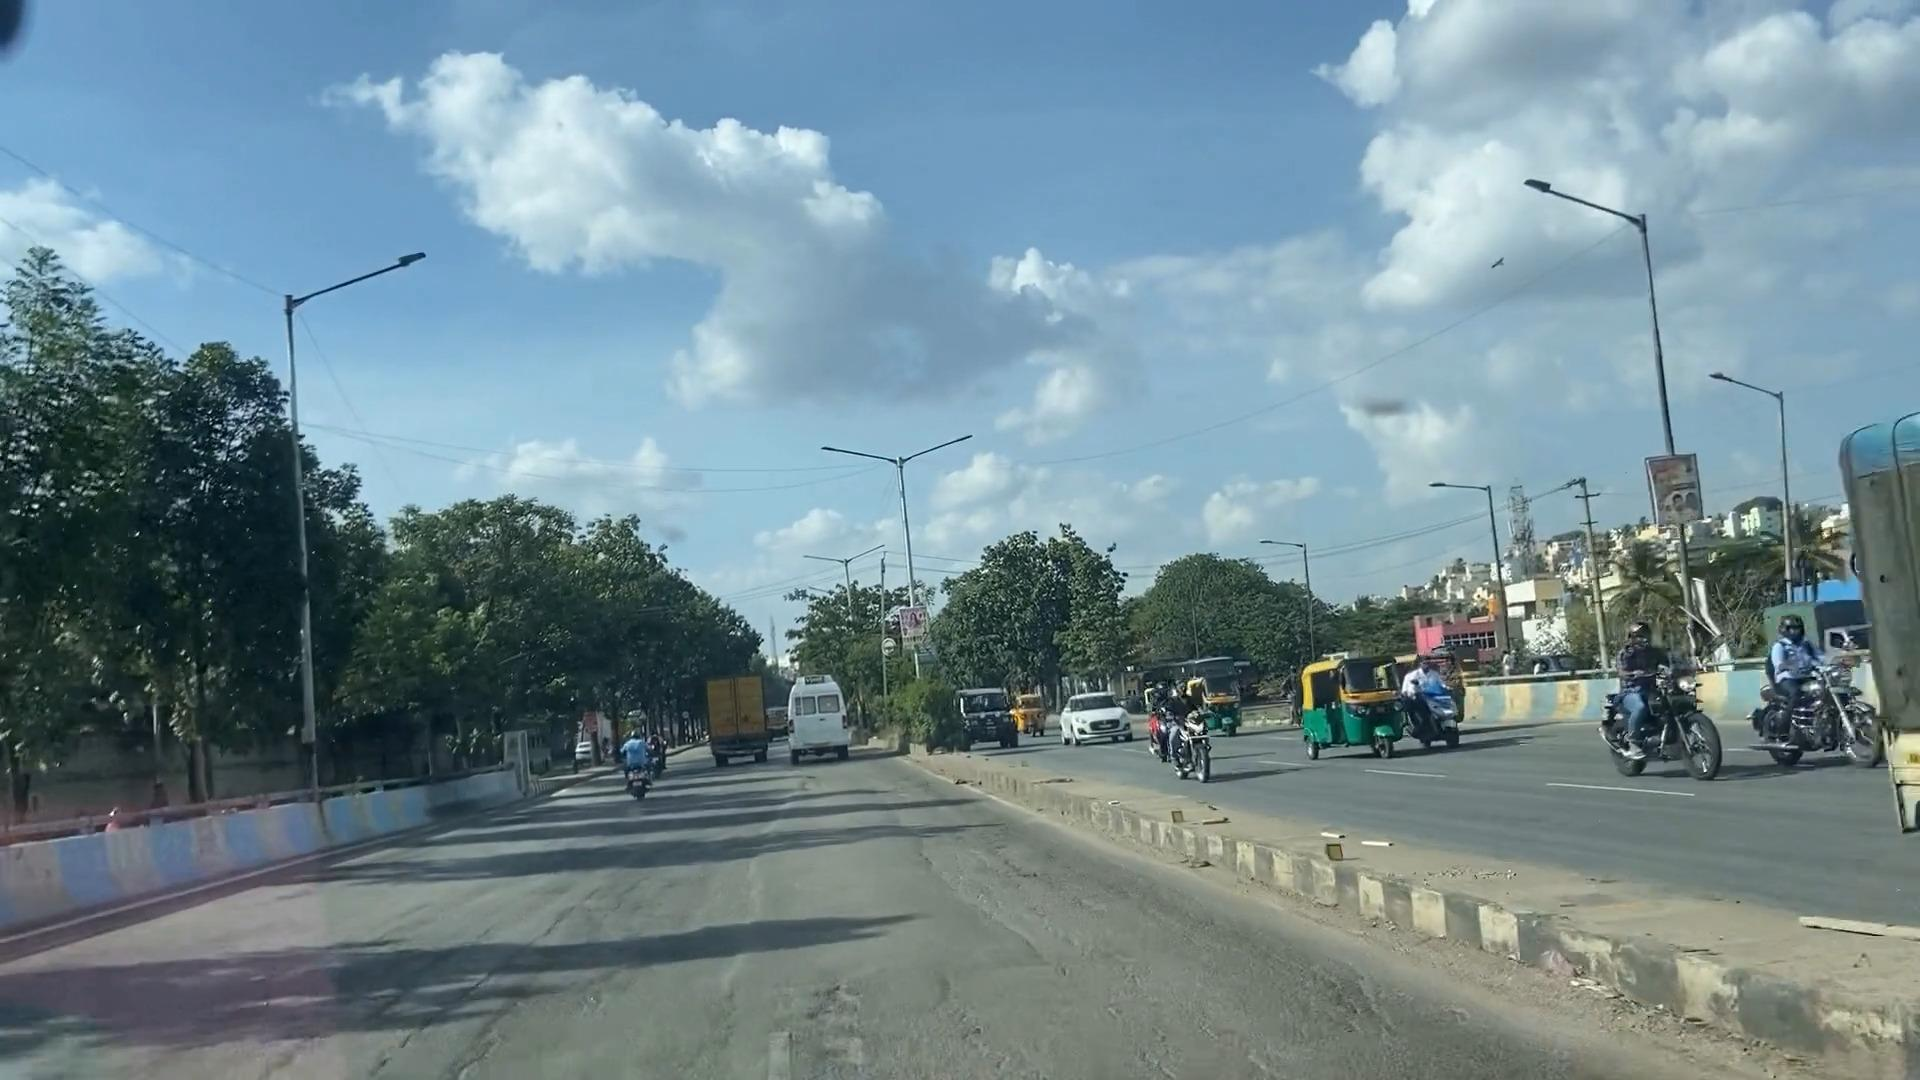HMV: (676, 658, 770, 767), (793, 666, 853, 756)
LMV: (608, 721, 655, 794)
RoadDamages: (422, 887, 890, 1000), (1055, 949, 1432, 1080), (684, 938, 990, 1080), (290, 964, 572, 1080), (932, 831, 1100, 973)
